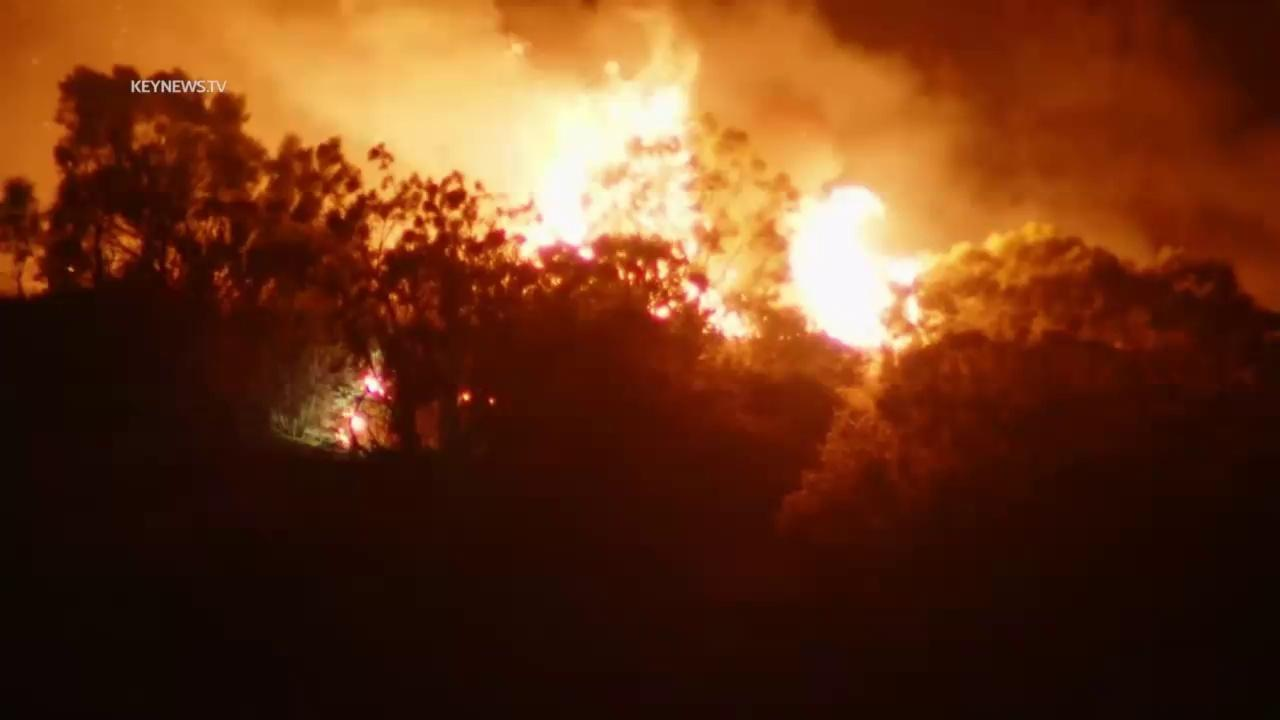fire: (627, 68, 748, 342), (781, 180, 931, 353), (514, 147, 600, 269), (335, 412, 369, 459), (360, 369, 395, 404), (457, 387, 473, 408), (489, 395, 497, 411)
smoke: (0, 0, 1280, 308)
